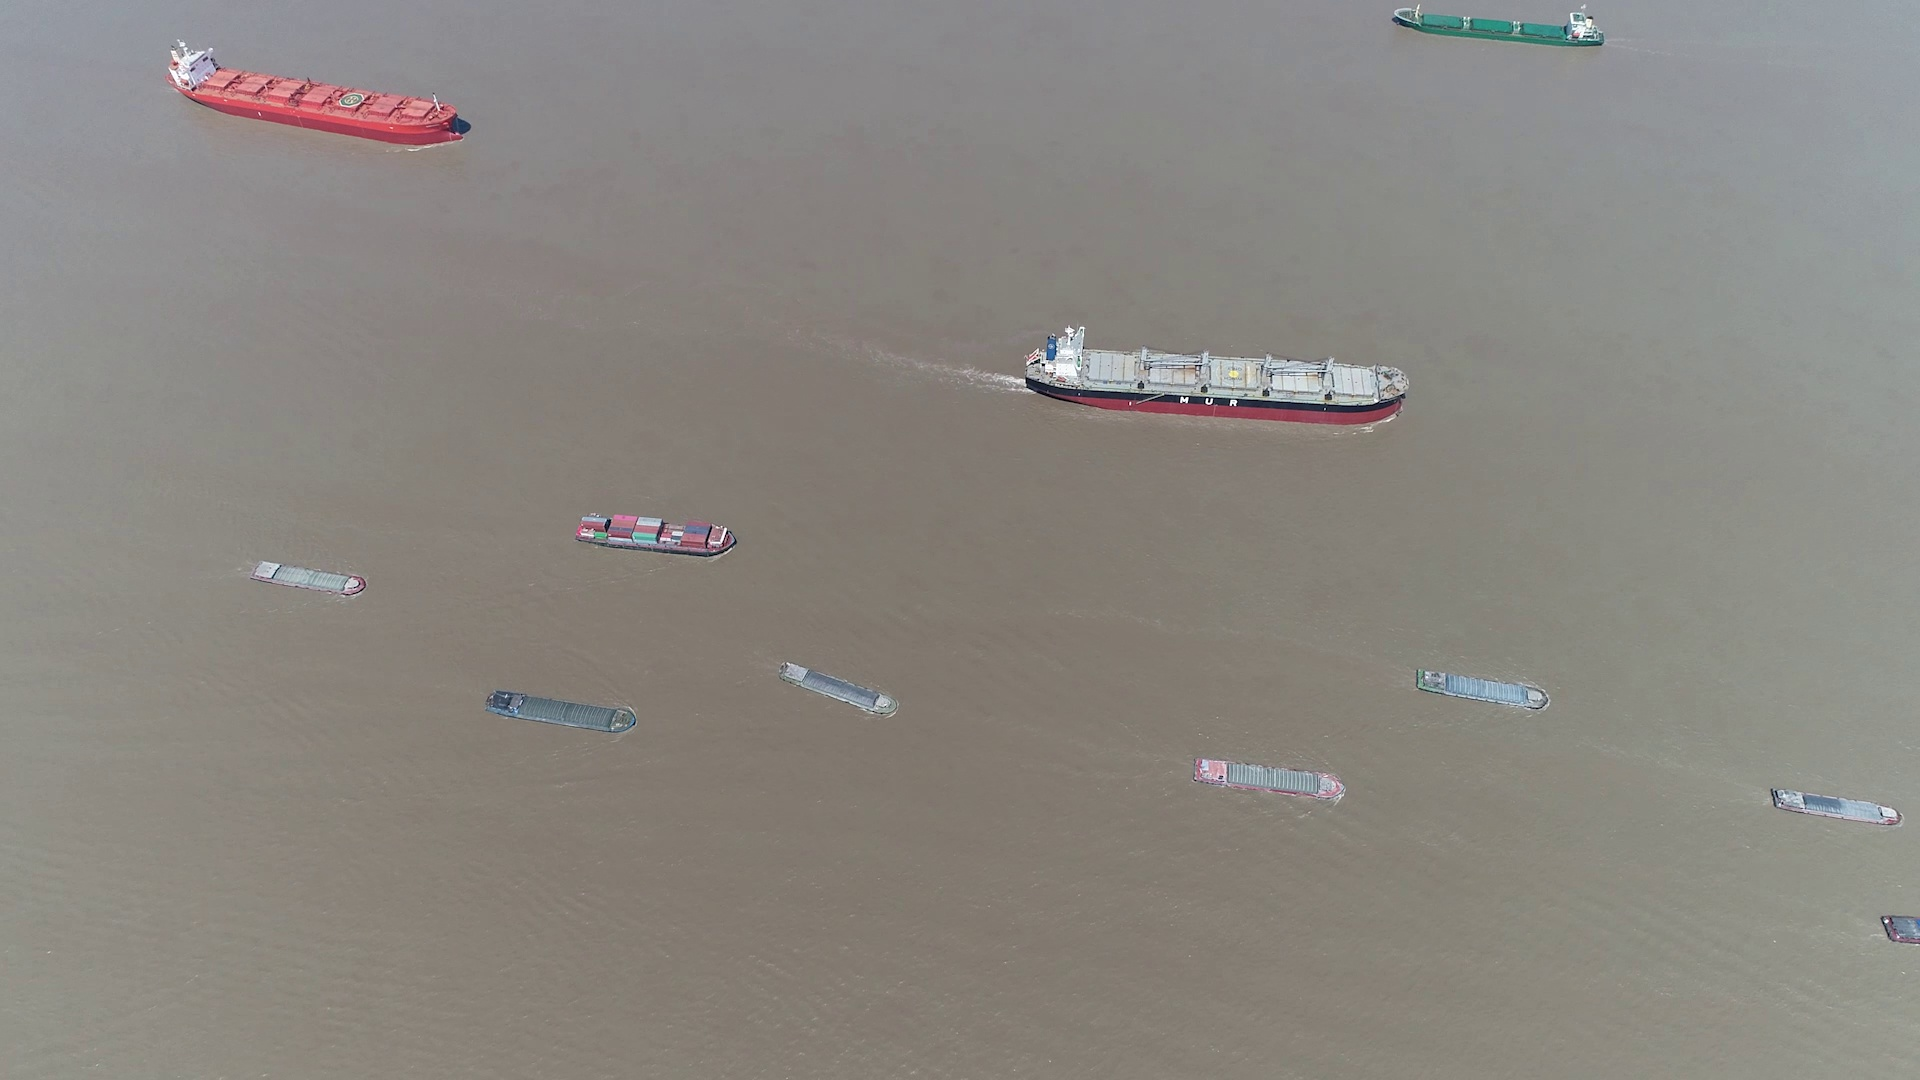ship: (1026, 328, 1408, 426), (165, 40, 468, 145), (1393, 9, 1600, 47), (576, 512, 736, 556), (487, 688, 640, 735), (782, 663, 897, 719), (1193, 757, 1345, 798), (1416, 669, 1549, 711), (1771, 787, 1900, 825), (251, 559, 365, 596), (1880, 915, 1917, 945)
